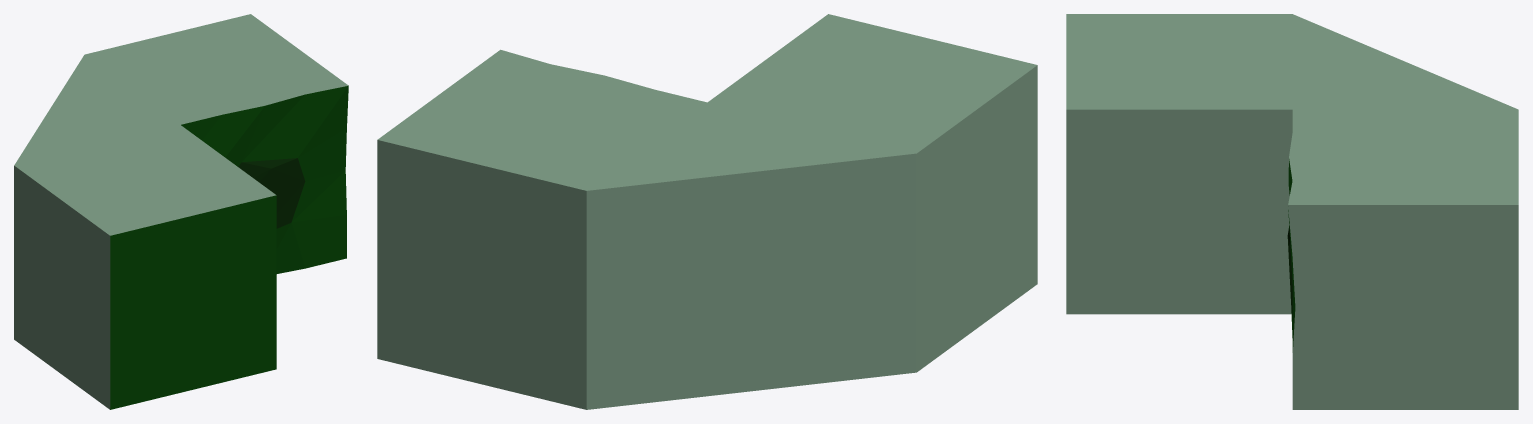
Rendered from test_level.obj.
The picture shows the model from 3 angles, left to right: view 1: azimuth 30°, elevation 25°; view 2: azimuth 150°, elevation 25°; view 3: azimuth 270°, elevation 25°; orthographic projection. The views are drawn at different scales.
Visible parts, largest first — view 1: Cube; view 2: Cube; view 3: Cube.
Boxes of the visible parts, <box> form: Cube: <box>14,14,348,409</box>; Cube: <box>377,14,1037,409</box>; Cube: <box>1066,14,1518,409</box>.
Bounding box in the file's own units: 24 × 12 × 24.
